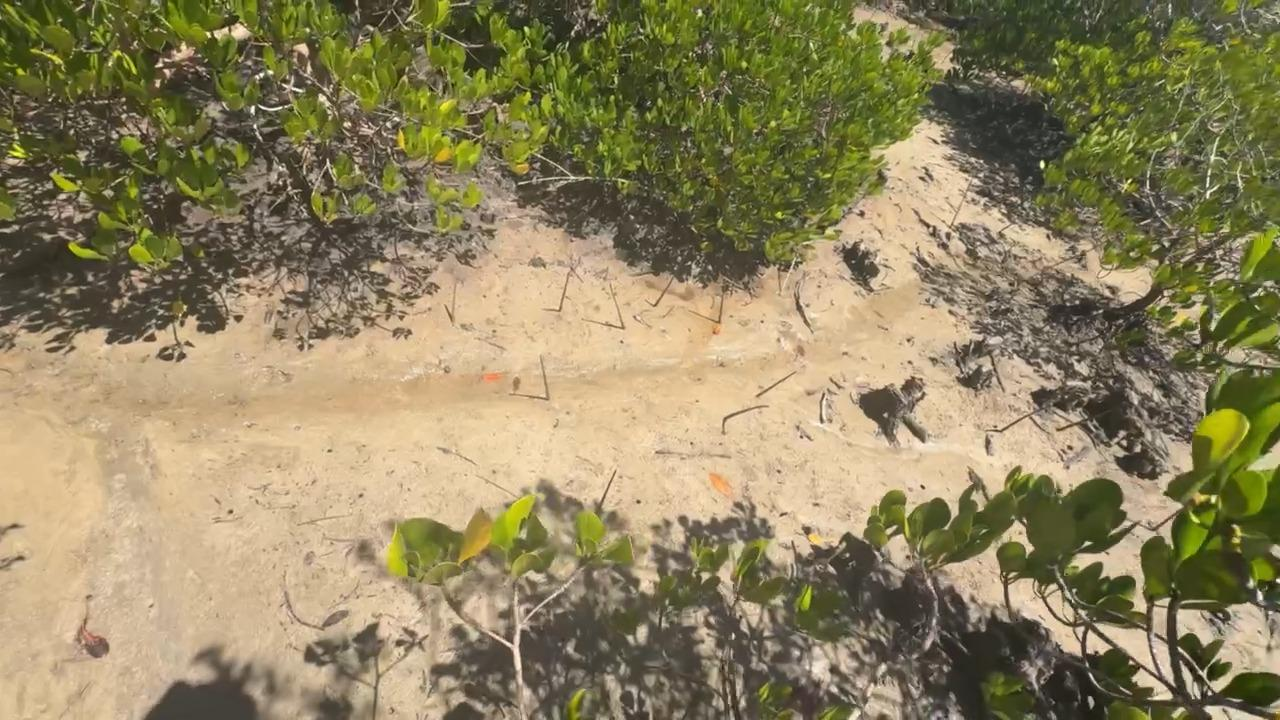Tree: (1056, 410, 1112, 433), (1000, 407, 1048, 433), (949, 180, 972, 229), (756, 371, 797, 398), (595, 469, 617, 516), (1051, 247, 1094, 266), (609, 282, 626, 329), (723, 405, 769, 422), (653, 276, 675, 308), (989, 353, 1005, 394), (780, 257, 797, 294), (558, 271, 571, 312), (539, 354, 550, 401), (717, 278, 726, 324), (451, 279, 457, 327), (999, 222, 1014, 234)
